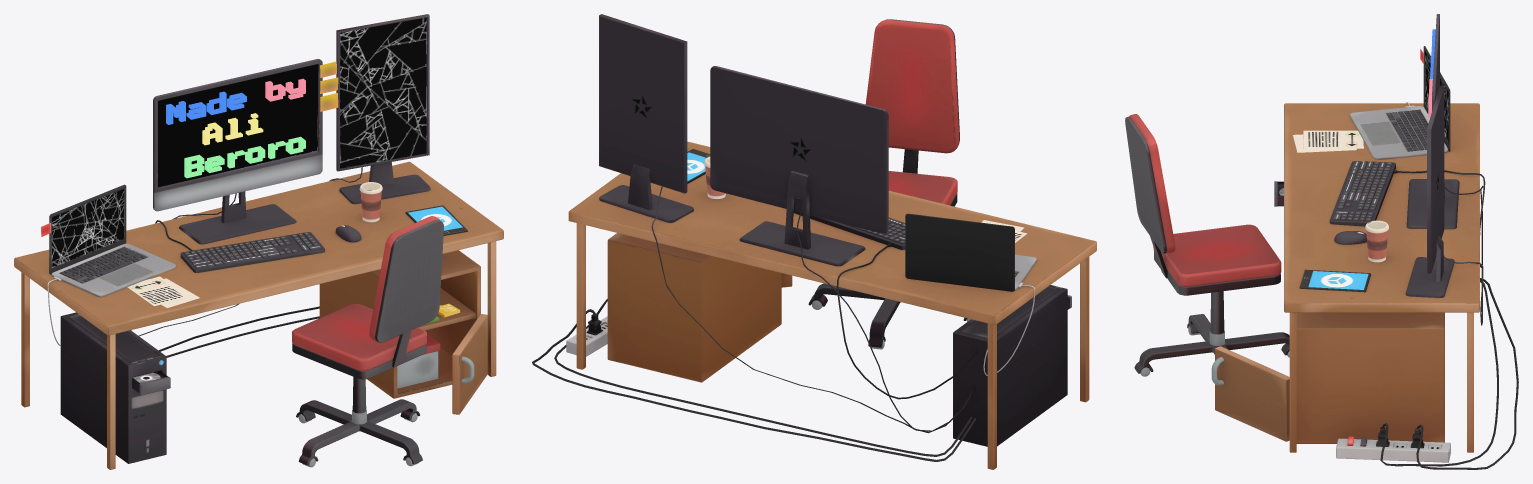
Rendered from desk-opt.glb.
3 views of the same model, side by side, from view 1: azimuth 30°, elevation 25°; view 2: azimuth 150°, elevation 25°; view 3: azimuth 270°, elevation 25° (orthographic). The views are drawn at different scales.
Parts seen in each view (by area): view 1: Final_lambert1_0, Plane, Text_primitive3, Text_primitive1, Text_primitive2, Text_primitive0; view 2: Final_lambert1_0; view 3: Final_lambert1_0.
Part boxes in pixels (box(x1,y1,x2,y2)): Final_lambert1_0: box(14, 14, 503, 469); Plane: box(158, 64, 318, 187); Text_primitive3: box(184, 136, 305, 178); Text_primitive1: box(166, 91, 246, 124); Text_primitive2: box(202, 113, 263, 145); Text_primitive0: box(265, 78, 305, 101); Final_lambert1_0: box(532, 14, 1096, 469); Final_lambert1_0: box(1125, 14, 1518, 469).
Size of the model in its own units: 2.36 by 1.64 by 1.81.
6 materials, 1 textured.
